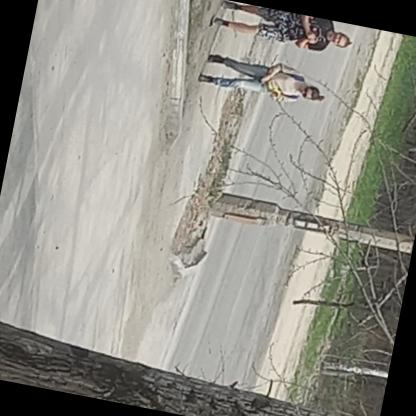Human Body: (191, 44, 331, 118), (202, 0, 357, 64)
